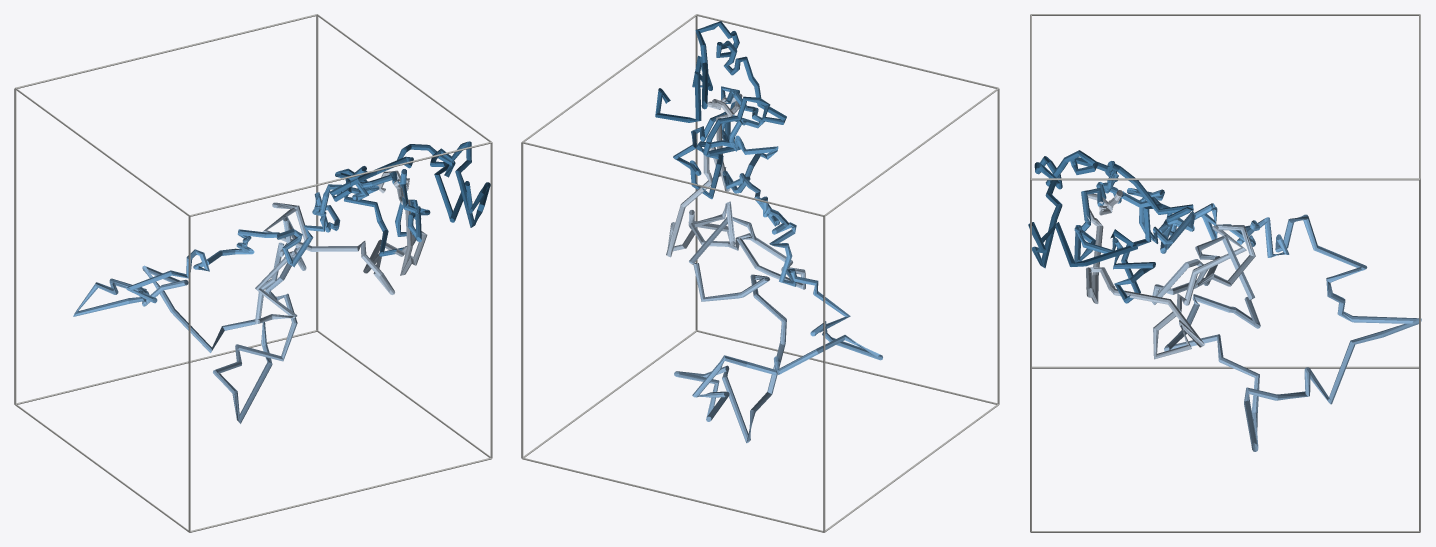
File: SP20_early.glb
3 renders of one model, left to right at view 1: azimuth 30°, elevation 25°; view 2: azimuth 150°, elevation 25°; view 3: azimuth 270°, elevation 25°, orthographic. The views are drawn at different scales.
Parts seen in each view (by area): view 1: geometry_0, geometry_1; view 2: geometry_0, geometry_1; view 3: geometry_0, geometry_1.
Boxes of the visible parts, <box> form: geometry_0: <box>73,141,490,423</box>; geometry_1: <box>14,14,492,532</box>; geometry_0: <box>655,21,882,443</box>; geometry_1: <box>521,14,999,532</box>; geometry_0: <box>1028,150,1421,451</box>; geometry_1: <box>1030,14,1420,532</box>.
Bounding box in the file's own units: 0.3018 × 0.3042 × 0.3037.
